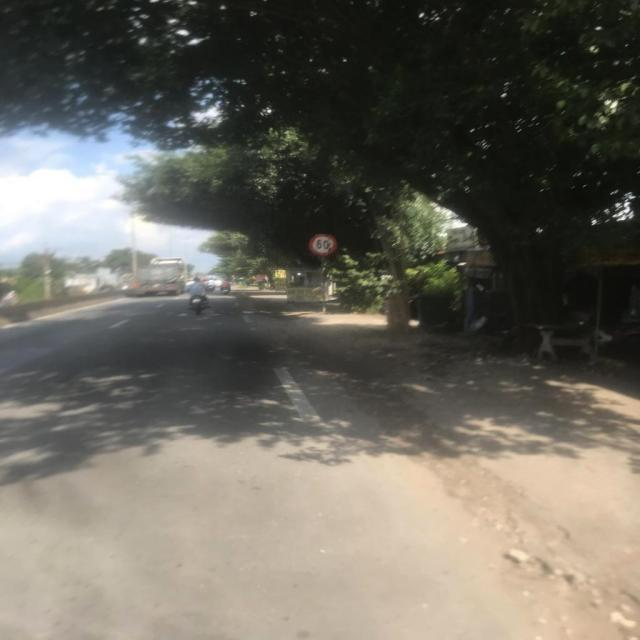127-toc-do-toi-da-60: (308, 232, 338, 256)
